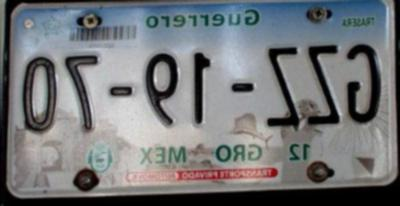License_Plate: (9, 0, 394, 194)
